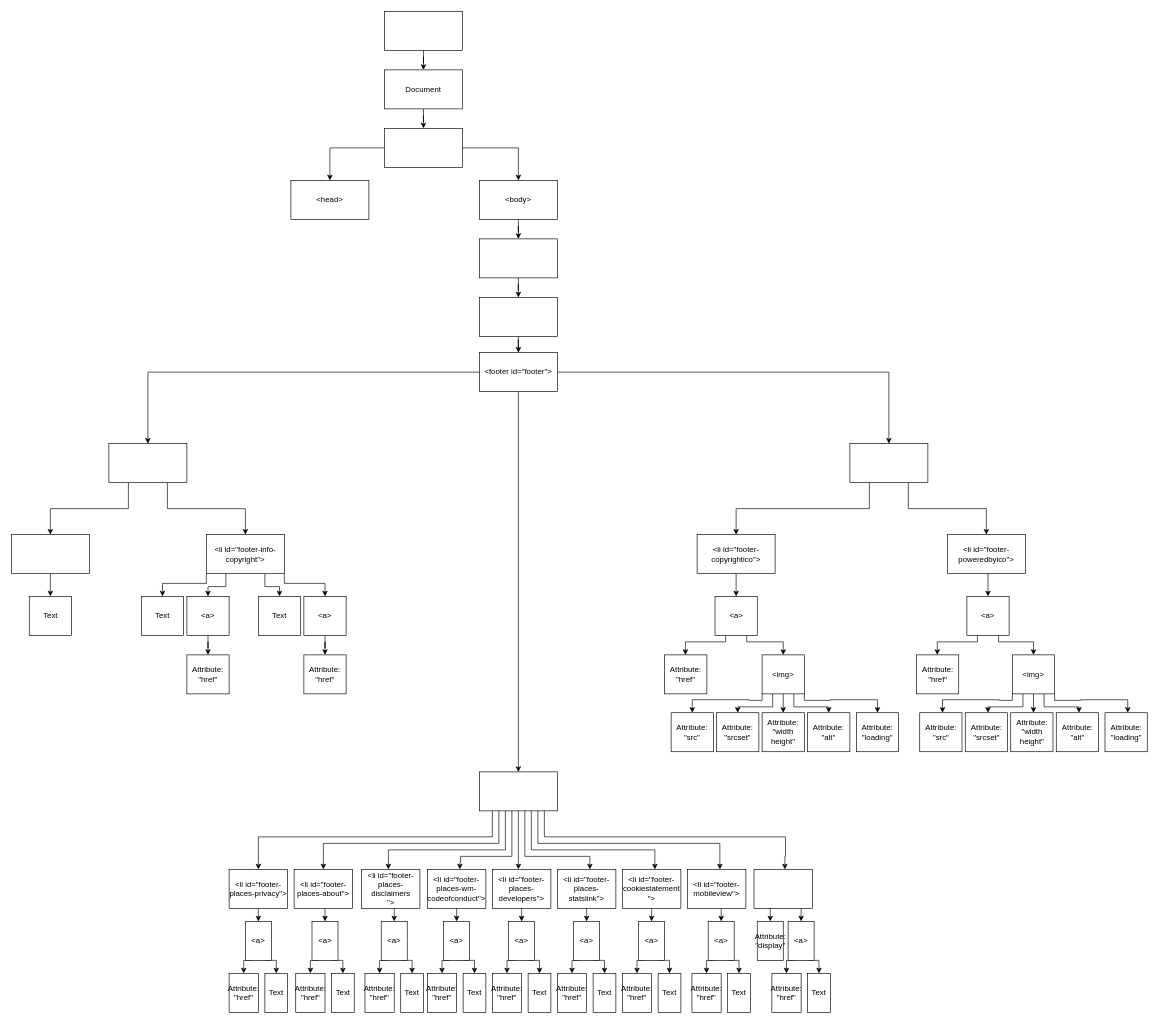
The diagram is 1159 pixels wide and 1024 high, and some of its shapes have lost their labels. Here are the shapes that lost their labels. From the top down, the centre of each, then its label:
pixel 423 30: Window
pixel 423 147: <html>
pixel 518 258: <div class=mw-page-container>
pixel 518 316: <div class=mw-footer-container>
pixel 147 463: <ul id="footer-info">
pixel 888 463: <ul id="footer-icons">
pixel 50 554: <li id="footer-info-lastmod">
pixel 518 791: <ul id="footer-places">
pixel 782 888: <li>
